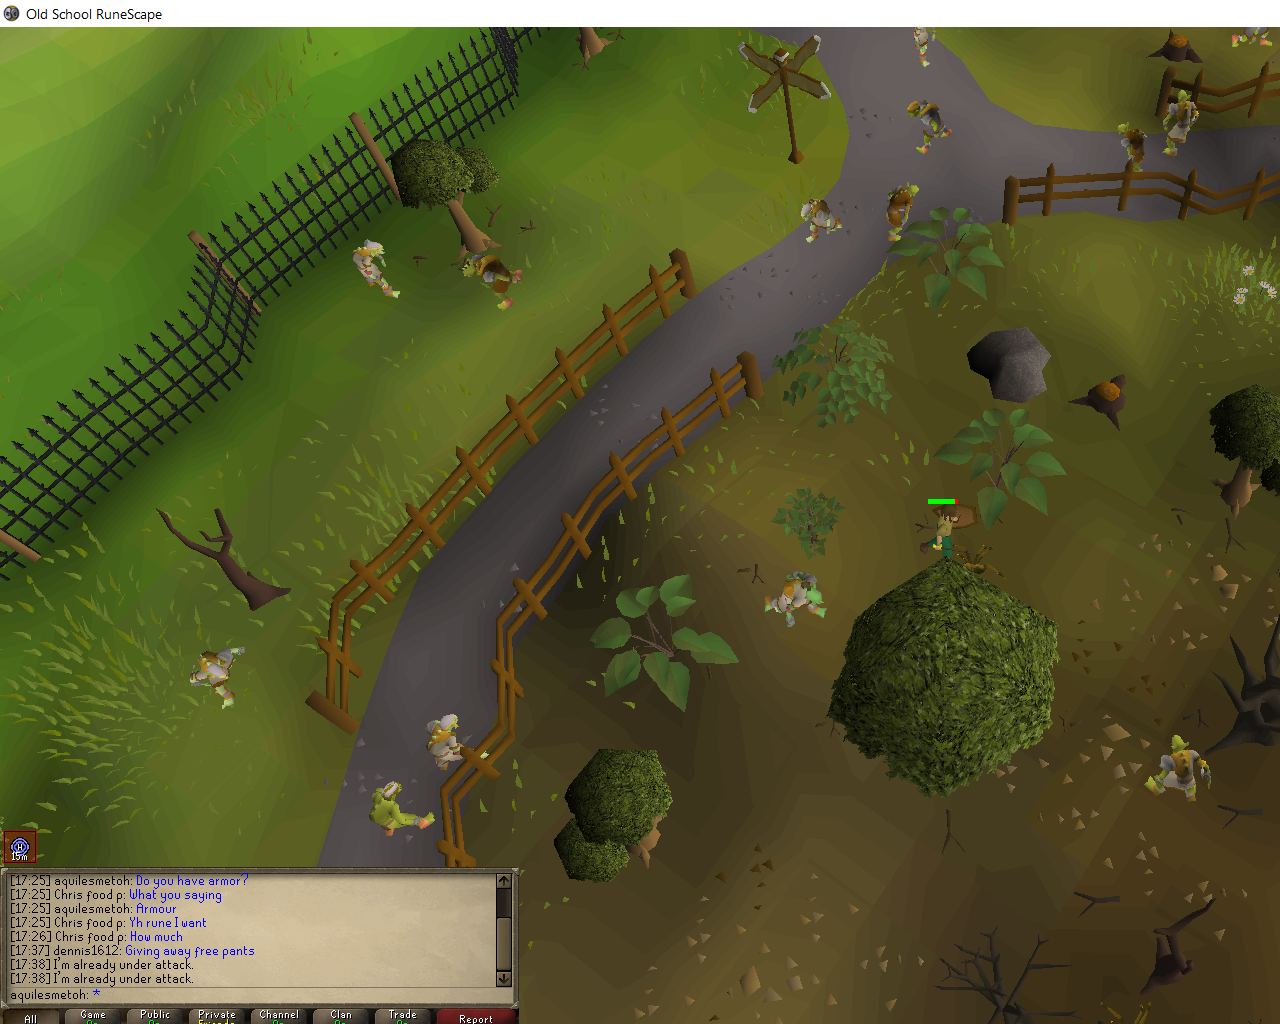Goblin: (1140, 734, 1216, 802), (363, 782, 439, 838), (184, 645, 246, 711), (423, 713, 490, 773), (762, 569, 829, 630), (462, 254, 523, 315), (348, 241, 402, 303), (905, 98, 955, 154), (1164, 91, 1200, 159), (799, 197, 850, 245), (885, 179, 920, 245), (1116, 123, 1148, 172), (911, 28, 939, 69)
